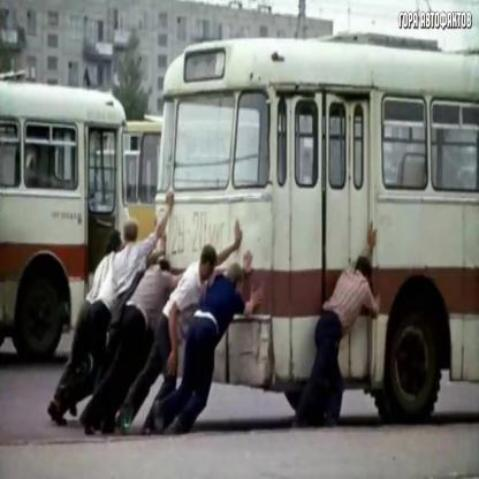bus: (155, 34, 479, 414), (0, 81, 129, 353)
